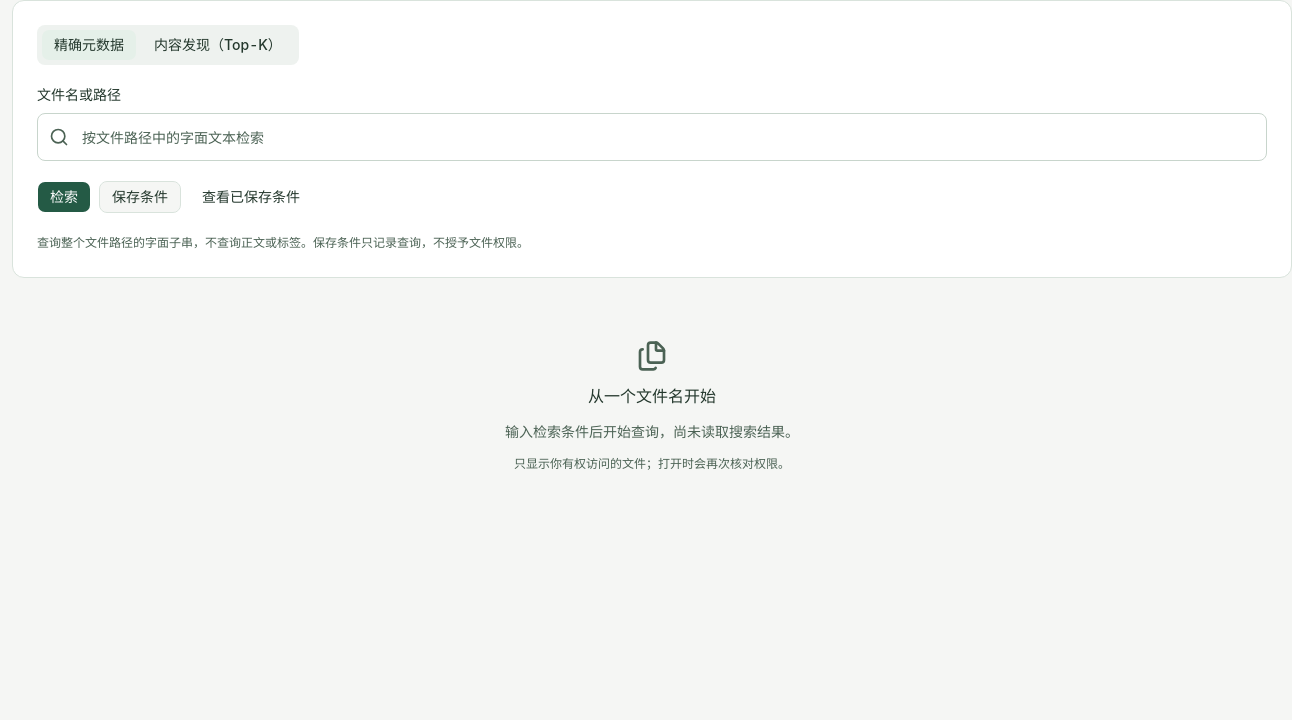
Test case: invalidates a pending query when mode changes
This screenshot has width=1292, height=720.
Type "original" into the search field named "检索条件" at (652, 137), box [37,113,1267,161]
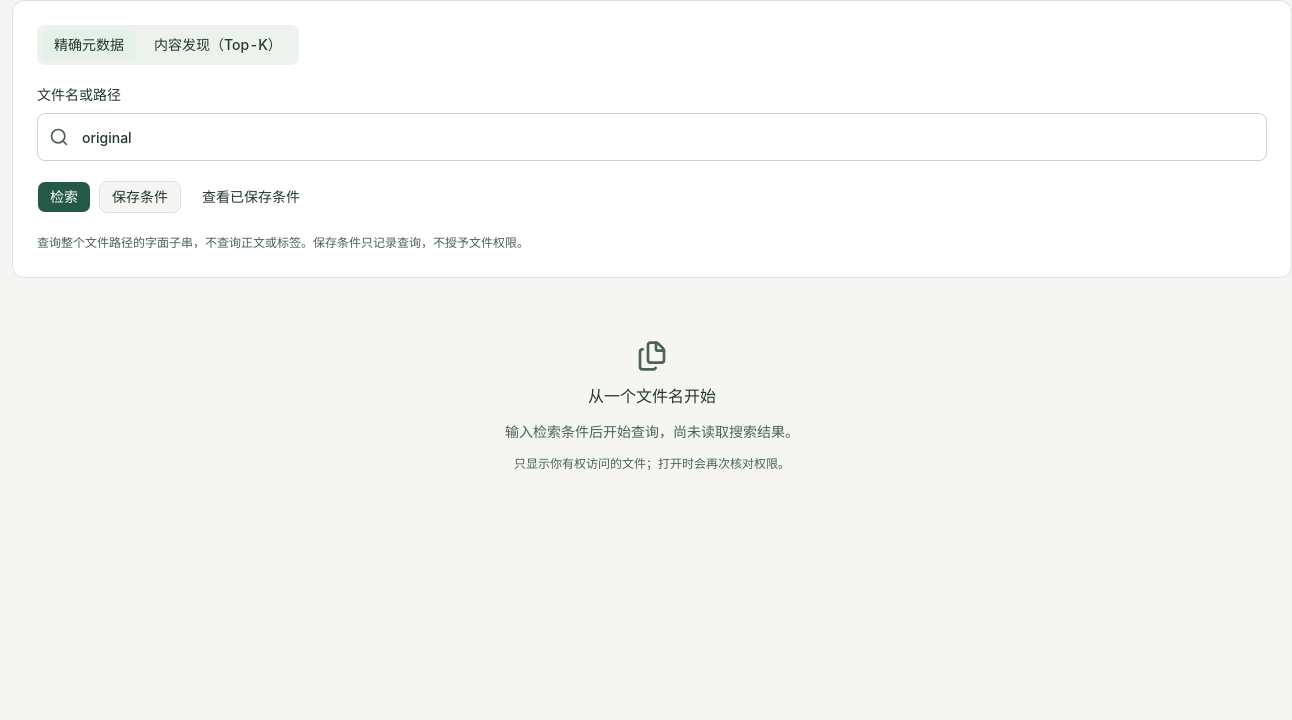
Click the button "检索" at (64, 197), box [37,181,91,213]
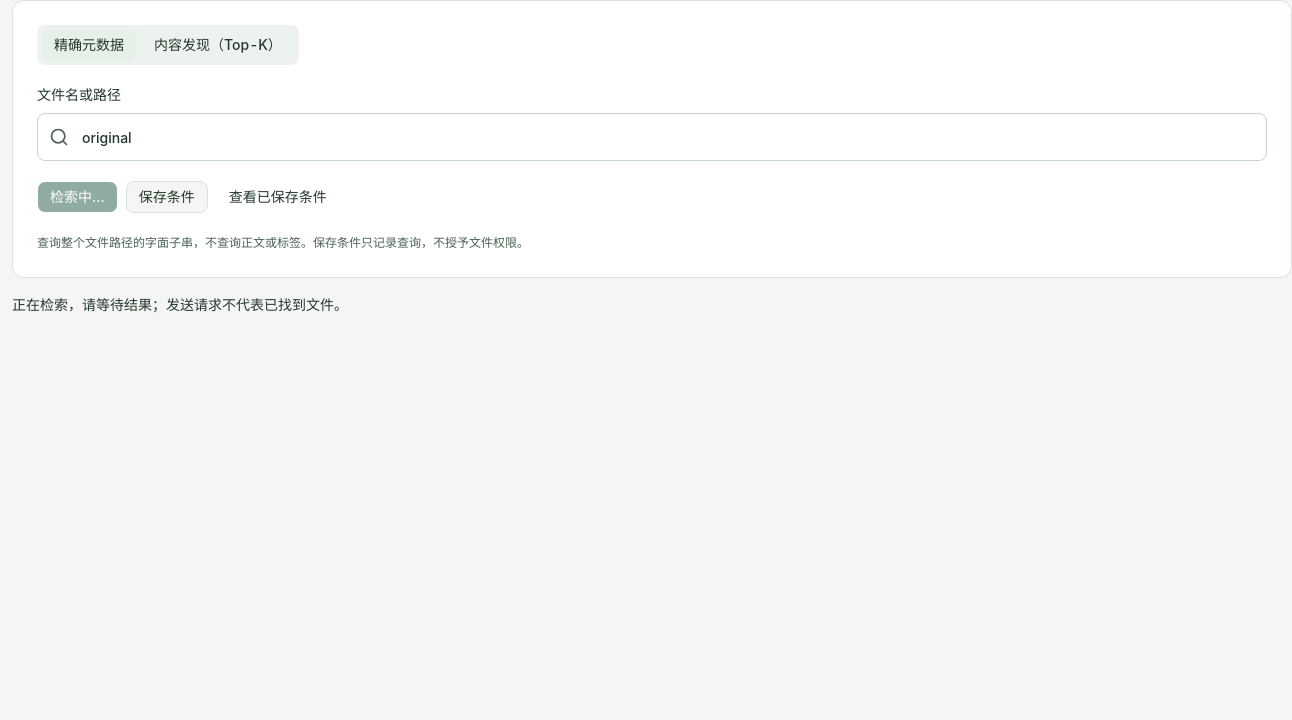
Click the radio button labelled "内容发现（Top-K）" at (218, 45), box [141,29,295,61]
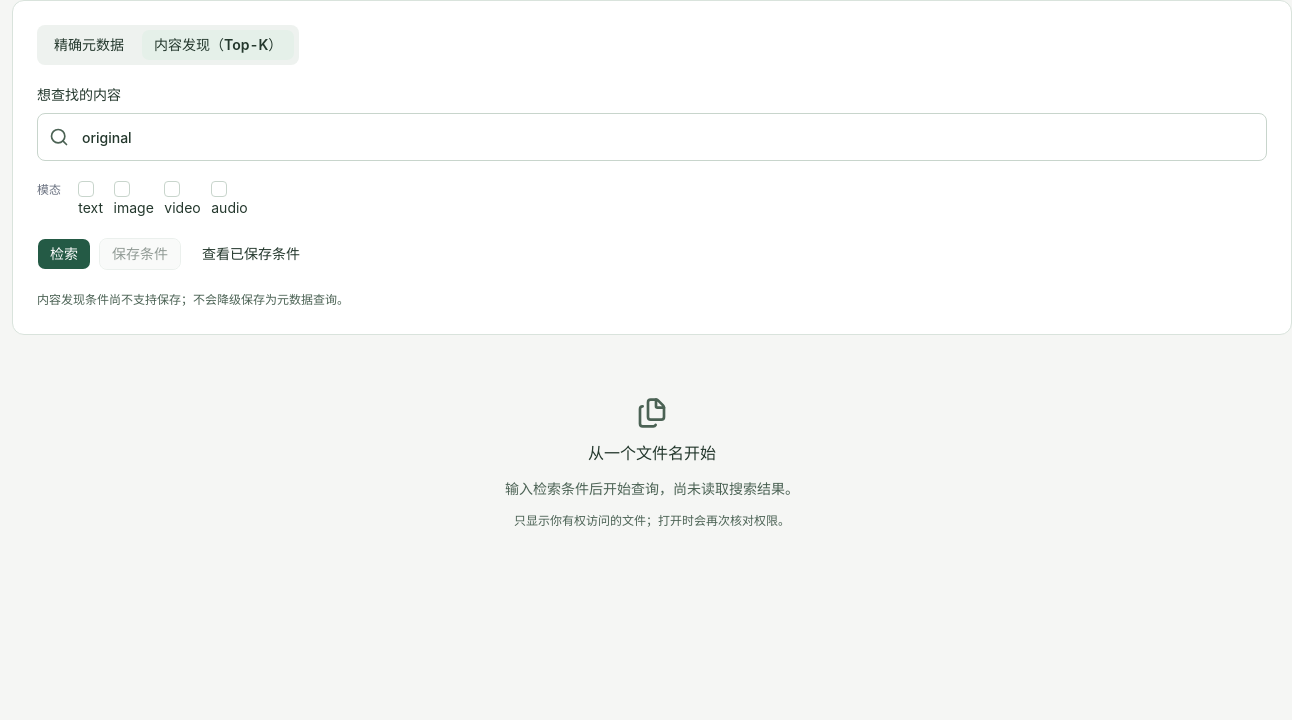
Expected: the message shows "尚未读取搜索结果", [505,480,799,497]
